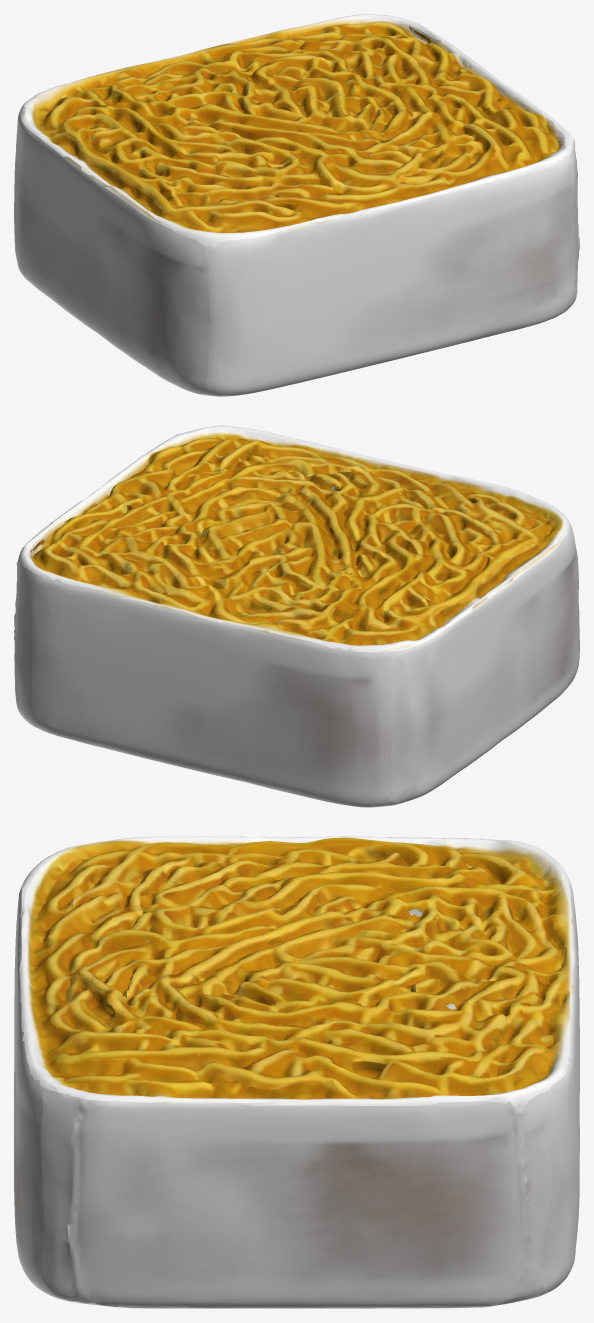
The picture shows the model from 3 angles, top to bottom: view 1: azimuth 30°, elevation 25°; view 2: azimuth 150°, elevation 25°; view 3: azimuth 270°, elevation 25°; orthographic projection. The views are drawn at different scales.
Parts seen in each view (by area): view 1: tmp84coy8oo.ply; view 2: tmp84coy8oo.ply; view 3: tmp84coy8oo.ply.
Part boxes in pixels (x1,y1,x2,y2): tmp84coy8oo.ply: (14,14,579,396); tmp84coy8oo.ply: (14,425,579,807); tmp84coy8oo.ply: (14,836,579,1308).
Bounding box in the file's own units: 185 × 75.16 × 165.
Materials: 1 (1 with a texture image).
